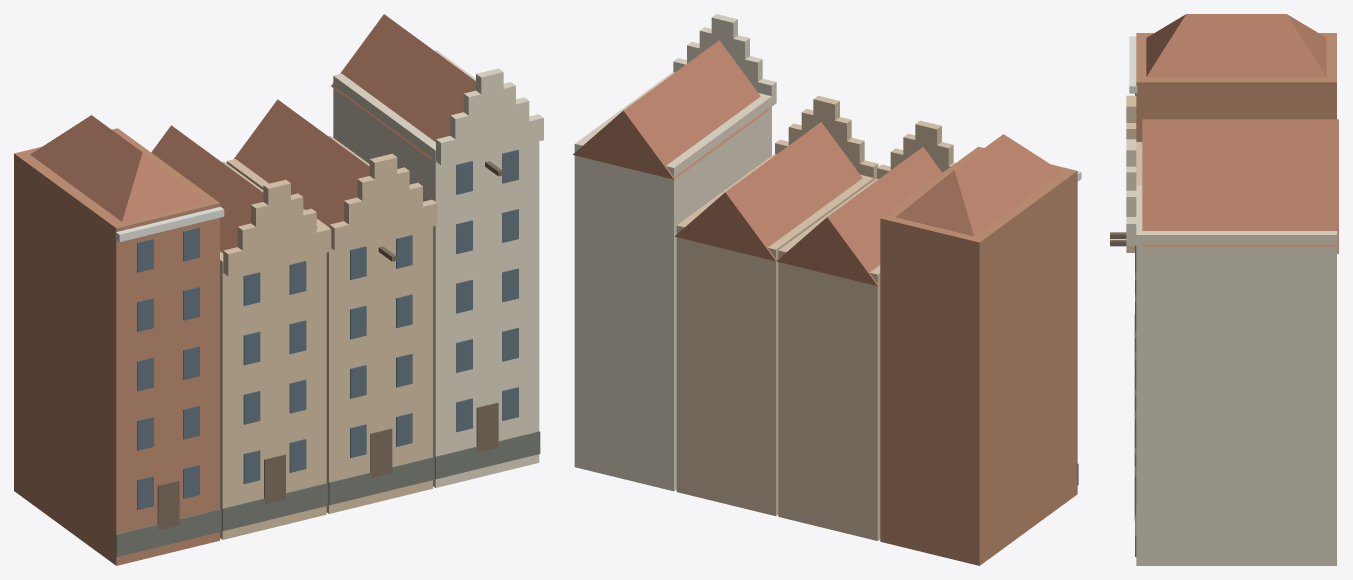
Rendered from CanalRowB.glb.
3 renders of one model, left to right at view 1: azimuth 30°, elevation 25°; view 2: azimuth 150°, elevation 25°; view 3: azimuth 270°, elevation 25°, orthographic. The views are drawn at different scales.
Visible parts, largest first — view 1: House.004, House.007, House.006, House.005, Roof.004, Hip roof.002, Roof.003, Roof.002, Stepped gable.008, Stepped gable.016, Stepped gable.012, Water stain.007 (+14 smaller); view 2: House.004, House.007, House.006, House.005, Roof.004, Roof.003, Hip roof.002, Roof.002, Stepped gable.014, Stepped gable.018, Stepped gable.010, Stepped gable.013 (+1 smaller); view 3: House.007, Roof.004, Hip roof.002, House.004, Roof.002, Cornice.002, Stepped gable.016, Stepped gable.019, House.005, Stepped gable.011.
Part boxes in pixels (x1=…): House.004: x1=14, y1=128, x2=219, y2=565; House.007: x1=333, y1=50, x2=539, y2=487; House.006: x1=226, y1=135, x2=432, y2=513; House.005: x1=220, y1=161, x2=326, y2=539; Roof.004: x1=331, y1=14, x2=475, y2=159; Hip roof.002: x1=30, y1=115, x2=203, y2=221; Roof.003: x1=234, y1=99, x2=369, y2=227; Roof.002: x1=151, y1=125, x2=263, y2=253; Stepped gable.008: x1=223, y1=225, x2=331, y2=276; Stepped gable.016: x1=436, y1=114, x2=543, y2=165; Stepped gable.012: x1=329, y1=199, x2=437, y2=250; Water stain.007: x1=435, y1=431, x2=540, y2=479; House.004: x1=880, y1=146, x2=1077, y2=565; House.007: x1=574, y1=72, x2=771, y2=491; House.006: x1=676, y1=154, x2=873, y2=516; House.005: x1=778, y1=178, x2=880, y2=540; Roof.004: x1=573, y1=40, x2=770, y2=179; Roof.003: x1=674, y1=122, x2=862, y2=261; Hip roof.002: x1=896, y1=134, x2=1061, y2=236; Roof.002: x1=776, y1=147, x2=941, y2=286; Stepped gable.014: x1=801, y1=109, x2=851, y2=140; Stepped gable.018: x1=699, y1=27, x2=749, y2=59; Stepped gable.010: x1=903, y1=133, x2=953, y2=165; Stepped gable.013: x1=788, y1=123, x2=864, y2=163; House.007: x1=1136, y1=185, x2=1336, y2=565; Roof.004: x1=1142, y1=163, x2=1338, y2=246; Hip roof.002: x1=1146, y1=14, x2=1326, y2=77; House.004: x1=1136, y1=33, x2=1336, y2=141; Roof.002: x1=1142, y1=119, x2=1338, y2=162; Cornice.002: x1=1129, y1=36, x2=1137, y2=93; Stepped gable.016: x1=1126, y1=217, x2=1136, y2=245; Stepped gable.019: x1=1126, y1=139, x2=1136, y2=166; House.005: x1=1136, y1=142, x2=1142, y2=185; Stepped gable.011: x1=1126, y1=95, x2=1136, y2=122.
Bounding box in the file's own units: 23.95 × 21.8 × 11.4.
